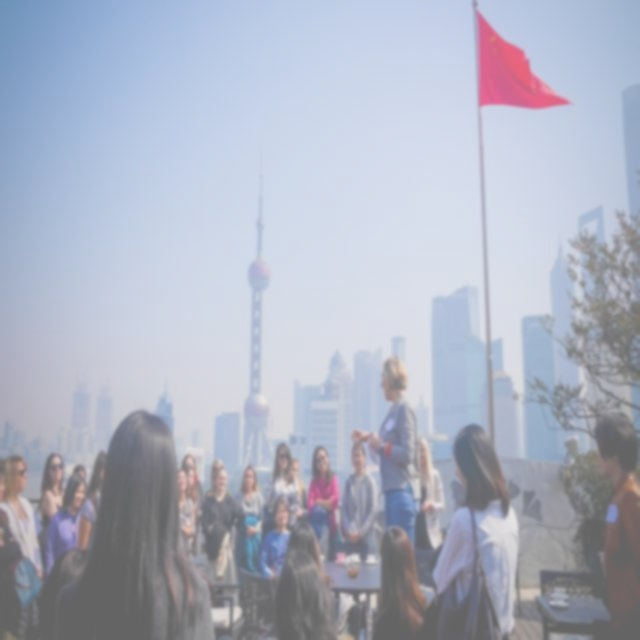pessoa: (50, 399, 217, 639), (427, 419, 523, 639), (348, 352, 424, 558), (592, 408, 640, 640), (339, 440, 378, 640), (259, 549, 342, 639), (371, 524, 430, 640), (421, 531, 482, 639), (0, 453, 46, 583), (28, 544, 90, 640), (200, 464, 238, 610), (233, 462, 265, 620), (44, 471, 88, 581), (412, 433, 446, 553), (306, 444, 340, 563), (258, 442, 302, 532), (32, 450, 65, 566), (285, 517, 336, 592), (0, 454, 33, 564), (258, 496, 294, 584), (77, 449, 108, 551), (180, 452, 206, 560), (58, 470, 88, 553), (200, 457, 234, 523), (177, 467, 197, 560), (182, 464, 200, 562), (288, 455, 310, 522)
